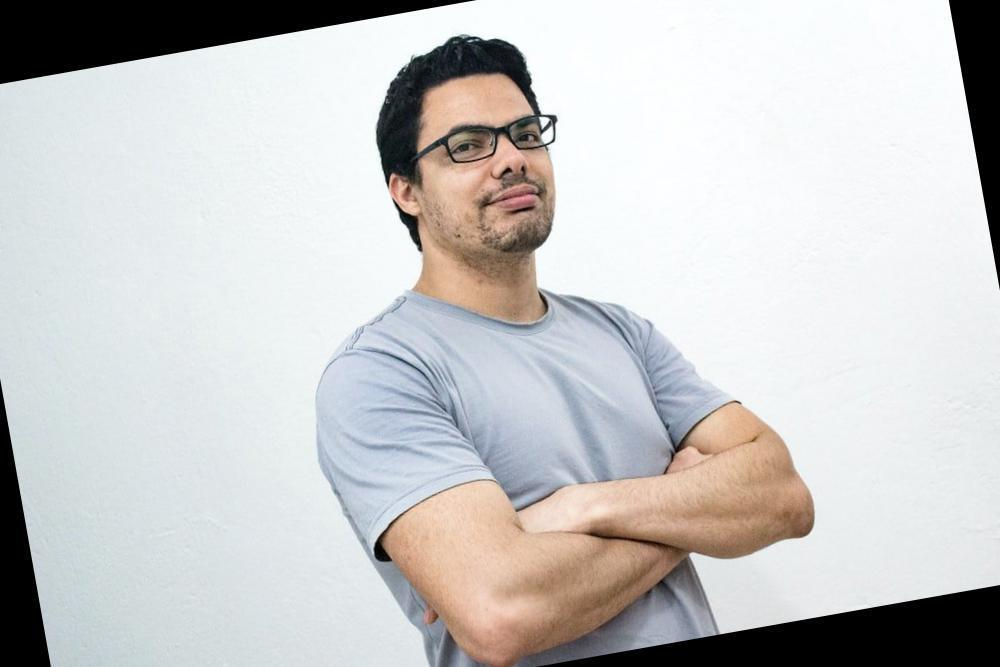Sober: (422, 89, 554, 250)
